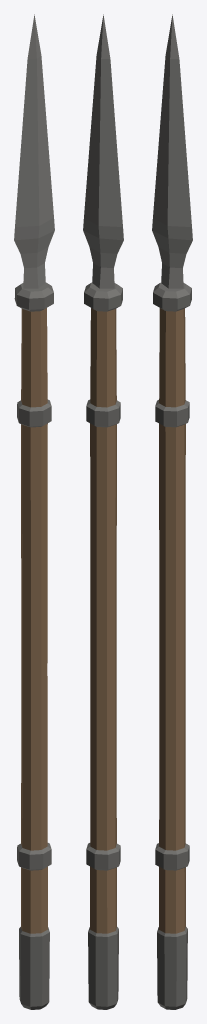
File: SM_pwe_egypt_spear_01c.fbx
3 renders of one model, left to right at view 1: azimuth 30°, elevation 25°; view 2: azimuth 150°, elevation 25°; view 3: azimuth 330°, elevation 25°, orthographic.
Visible parts, largest first — view 1: SM_pwe_egypt_spear_01c; view 2: SM_pwe_egypt_spear_01c; view 3: SM_pwe_egypt_spear_01c.
Boxes of the visible parts, x1,y1,x2,y2 form: SM_pwe_egypt_spear_01c: (14, 14, 54, 1009); SM_pwe_egypt_spear_01c: (83, 14, 123, 1009); SM_pwe_egypt_spear_01c: (152, 14, 192, 1009).
Size of the model in its own units: 7.72 by 179 by 6.62.
